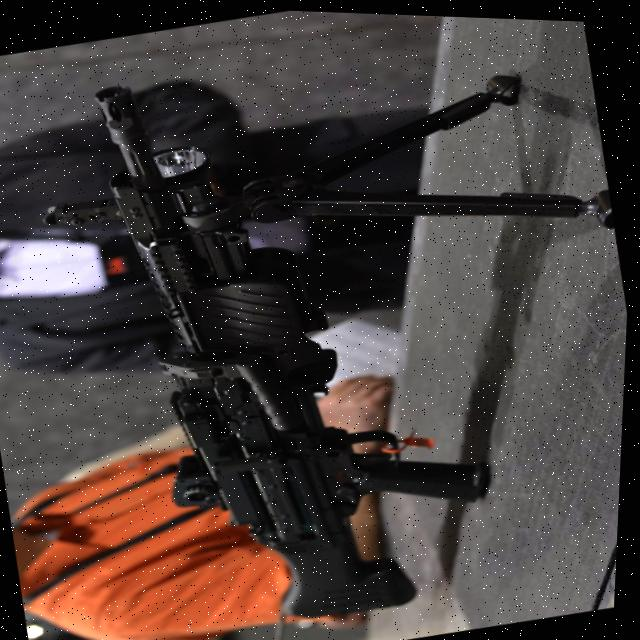firearm: (1, 1, 640, 640)
